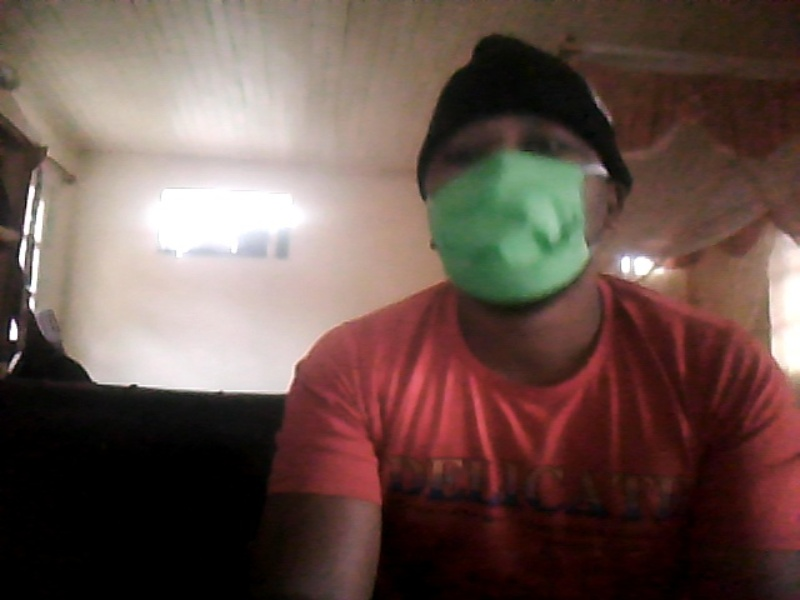ManaoArotava: (396, 25, 643, 333)
